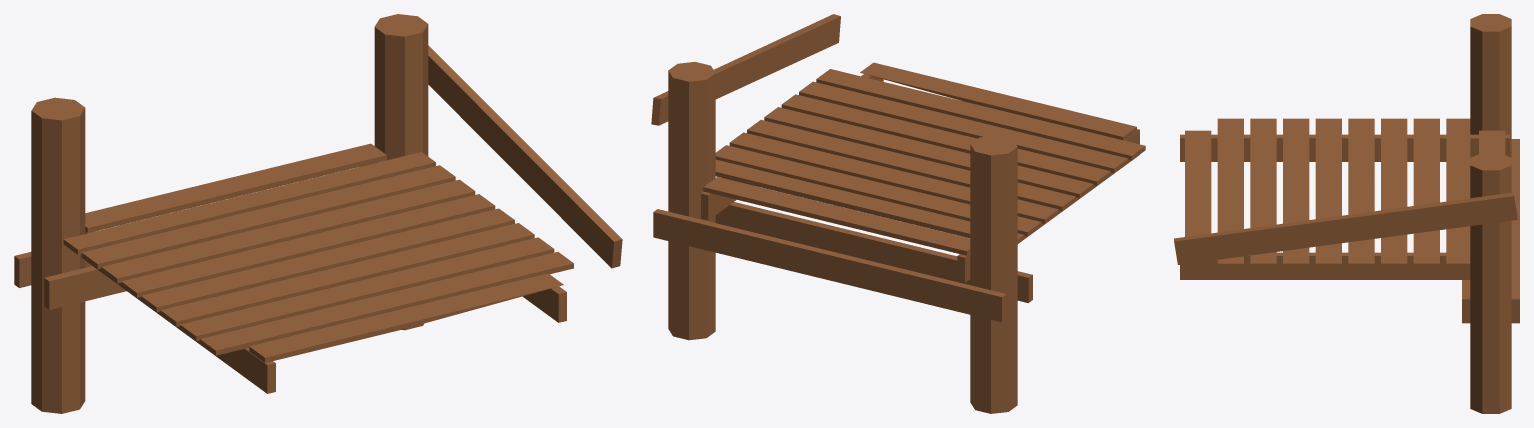
File: Barrier Dock Attach 3.fbx
The picture shows the model from 3 angles, left to right: view 1: azimuth 30°, elevation 25°; view 2: azimuth 150°, elevation 25°; view 3: azimuth 270°, elevation 25°; orthographic projection. The views are drawn at different scales.
Visible parts, largest first — view 1: Barrier Dock Attach 3; view 2: Barrier Dock Attach 3; view 3: Barrier Dock Attach 3.
Boxes of the visible parts, <box> form: Barrier Dock Attach 3: <box>14,14,622,413</box>; Barrier Dock Attach 3: <box>651,14,1145,413</box>; Barrier Dock Attach 3: <box>1174,14,1519,413</box>.
Bounding box in the file's own units: 410 × 288 × 370.
